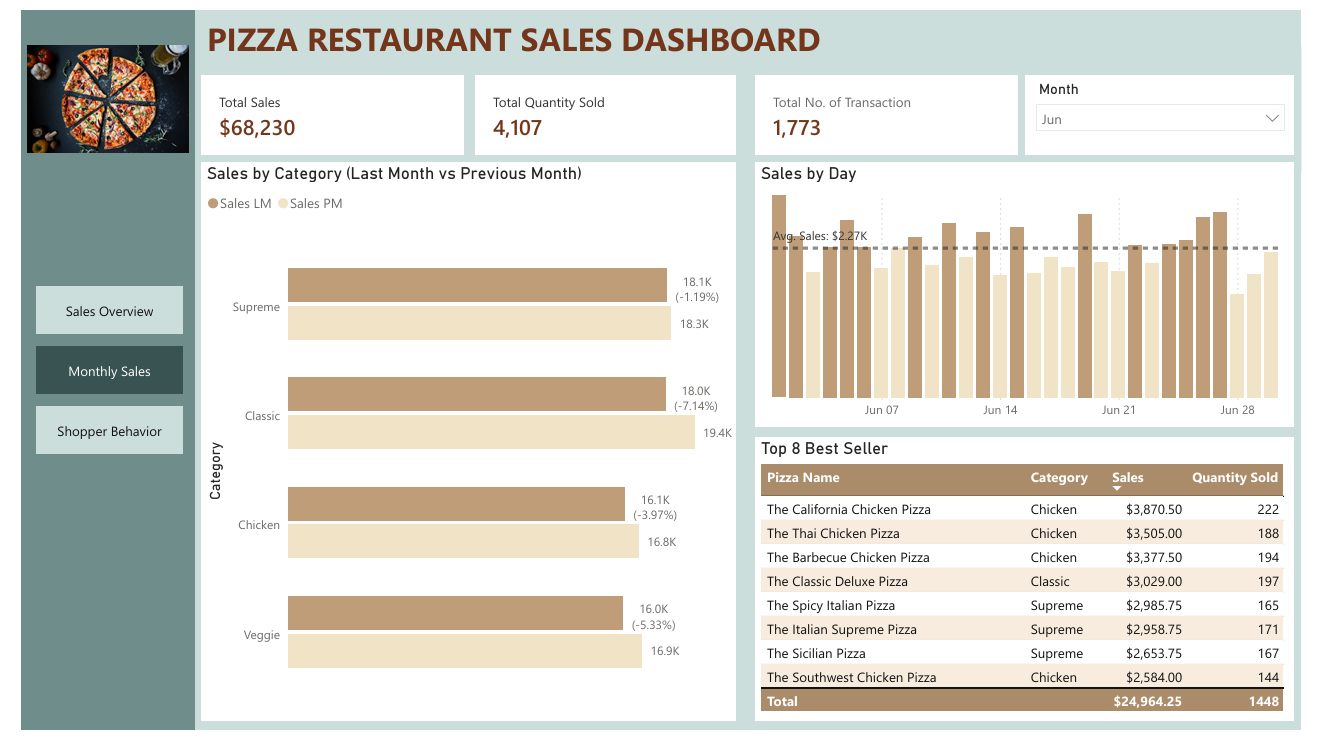

The dashboard page shown, as its layout file describes it:
{"tool":"powerbi","page":{"name":"Monthly Sales","canvas":[1280,720],"ordinal":1},"visuals":[{"type":"shape","box":[0,0,174.1,719.8],"z":0},{"type":"textbox","box":[180,0,1100,65],"z":1000},{"type":"cardVisual","fields":{"Data":["Sum(pizza_sales.total_price)"]},"box":[180,65,263,80],"z":2000},{"type":"cardVisual","fields":{"Data":["Sum(pizza_sales.quantity)"]},"box":[454.2,65.2,260.7,79.8],"z":3000},{"type":"image","box":[5.8,33.1,162.4,111.9],"z":4000},{"type":"slicer","fields":{"Values":["Calendar.Month"]},"box":[1003.8,65.2,269.4,79.8],"z":5000},{"type":"clusteredBarChart","title":"Sales by Category (Last Month vs Previous Month)","fields":{"Category":["pizza_sales.pizza_category"],"Y":["pizza_sales.Sales LM","pizza_sales.Sales PM"]},"box":[179.9,152,535,559.3],"z":6000},{"type":"tableEx","title":"Top 8 Best Seller ","fields":{"Values":["pizza_sales.pizza_name","pizza_sales.pizza_category","Sum(pizza_sales.total_price)","Sum(pizza_sales.quantity)"]},"box":[734,427,539,284],"z":7000},{"type":"clusteredColumnChart","title":"Sales by Day","fields":{"Y":["Sum(pizza_sales.total_price)"],"Category":["pizza_sales.order_date"]},"box":[734.3,151.7,538.8,265.5],"z":8000},{"type":"cardVisual","fields":{"Data":["Count(pizza_sales.order_id)"]},"box":[734.3,65.2,262.6,79.8],"z":9000},{"type":"pageNavigator","box":[12.6,274.3,149.8,171.2],"z":10000}]}

Visuals, with their boxes in screenshot pixels (x1, y1, x2, y2), scaled from the page's 1280x720 canvas onto the 1322x749 screenshot:
shape: (0,0,180,748)
textbox: (186,0,1321,68)
cardVisual - Sum(pizza_sales.total_price): (186,68,458,151)
cardVisual - Sum(pizza_sales.quantity): (469,68,738,151)
image: (6,34,174,151)
slicer - Calendar.Month: (1037,68,1315,151)
"Sales by Category (Last Month vs Previous Month)" clusteredBarChart: (186,158,738,740)
"Top 8 Best Seller " tableEx: (758,444,1315,740)
"Sales by Day" clusteredColumnChart: (758,158,1315,434)
cardVisual - Count(pizza_sales.order_id): (758,68,1030,151)
pageNavigator: (13,285,168,463)
